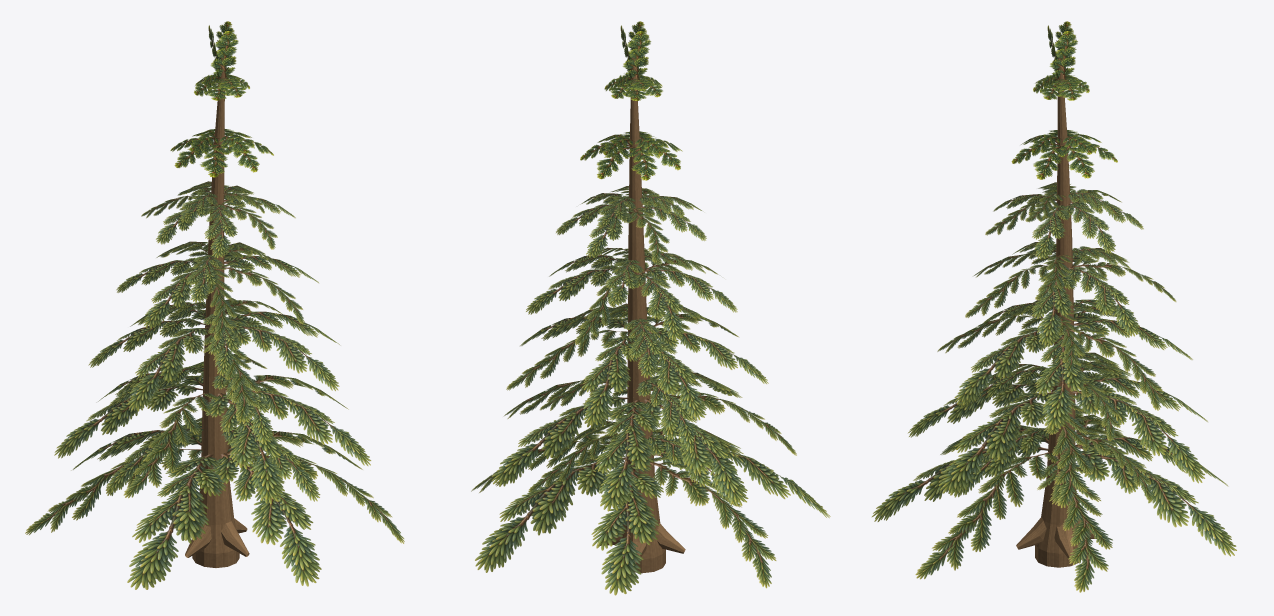
File: fir_soft_v1.glb
The picture shows the model from 3 angles, left to right: view 1: azimuth 30°, elevation 25°; view 2: azimuth 150°, elevation 25°; view 3: azimuth 270°, elevation 25°; orthographic projection.
Visible parts, largest first — view 1: fir_soft_v1; view 2: fir_soft_v1; view 3: fir_soft_v1.
Boxes of the visible parts, x1=… form: fir_soft_v1: x1=25, y1=21, x2=404, y2=589; fir_soft_v1: x1=471, y1=21, x2=830, y2=595; fir_soft_v1: x1=871, y1=21, x2=1236, y2=592.
Bounding box in the file's own units: 3.8 × 5.72 × 3.79.
4 materials, 4 textured.
